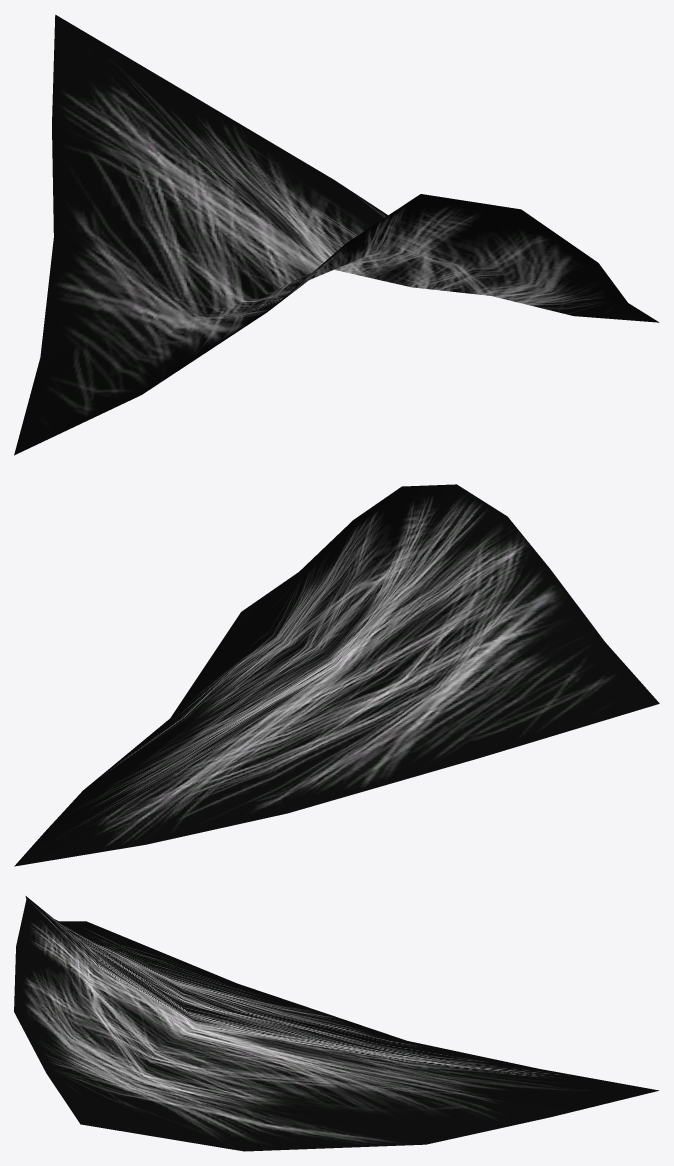
File: SWORDLIGHT20_PS-AREA01_CORNERWEB22.fbx
3 views of the same model, one above another, from view 1: azimuth 30°, elevation 25°; view 2: azimuth 150°, elevation 25°; view 3: azimuth 270°, elevation 25° (orthographic). The views are drawn at different scales.
Parts seen in each view (by area): view 1: SWORDLIGHT20_PS-AREA01_CORNERWEB22; view 2: SWORDLIGHT20_PS-AREA01_CORNERWEB22; view 3: SWORDLIGHT20_PS-AREA01_CORNERWEB22.
Boxes of the visible parts, x1,y1,x2,y2 form: SWORDLIGHT20_PS-AREA01_CORNERWEB22: [14, 14, 659, 455]; SWORDLIGHT20_PS-AREA01_CORNERWEB22: [14, 484, 659, 866]; SWORDLIGHT20_PS-AREA01_CORNERWEB22: [14, 896, 658, 1151].
Size of the model in its own units: 43766 by 18763 by 62594.
1 material, 1 textured.
